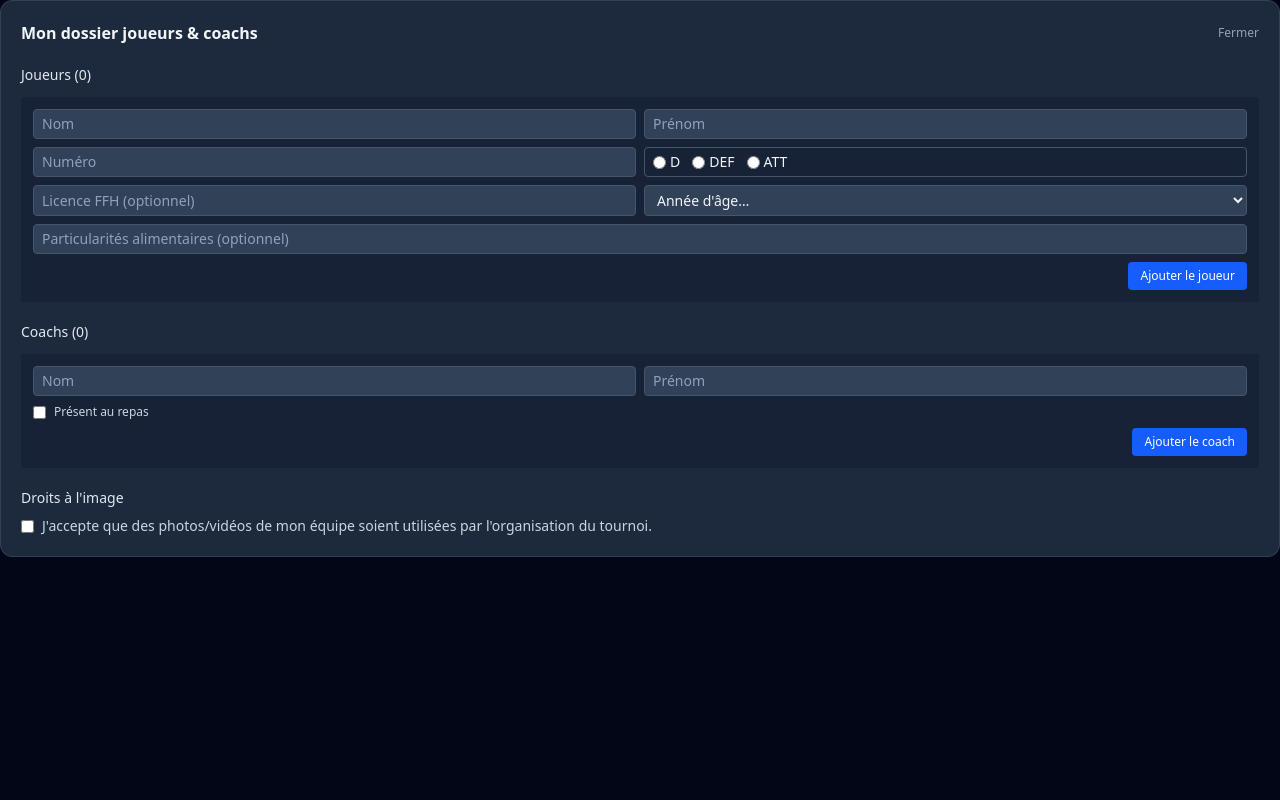
Test case: DossierPanel › rejects joueur submission when nom/prénom/numéro/poste are filled but no année d'âge is selected (CA3)
This screenshot has width=1280, height=800.
Expected: the heading "Joueurs (0)" is shown, [21,65,91,84]
Type "Gretzky" into the field with placeholder "Nom" below "Joueurs (0)".
click(334, 124); type("Gretzky")  # box [33,109,636,139]
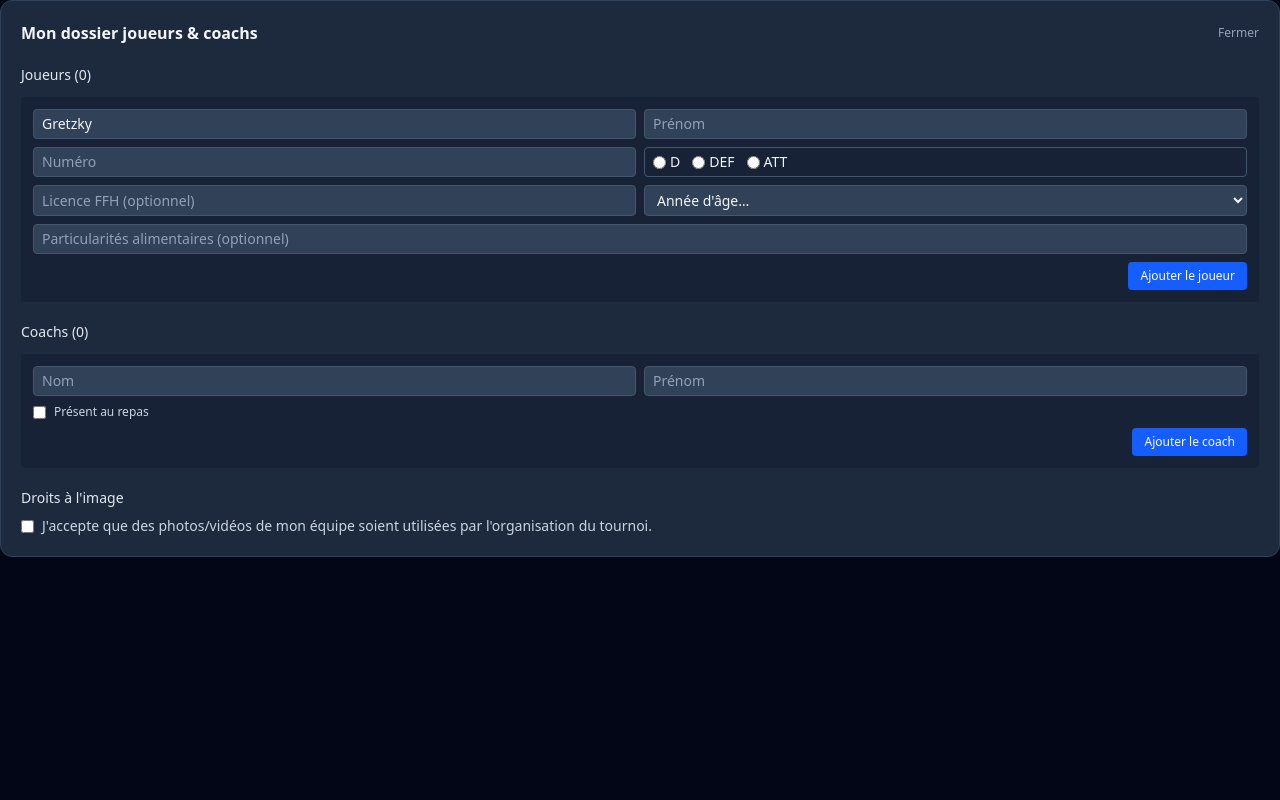
Type "Wayne" into the 1st field with placeholder "Prénom".
click(946, 124); type("Wayne")  # box [644,109,1247,139]
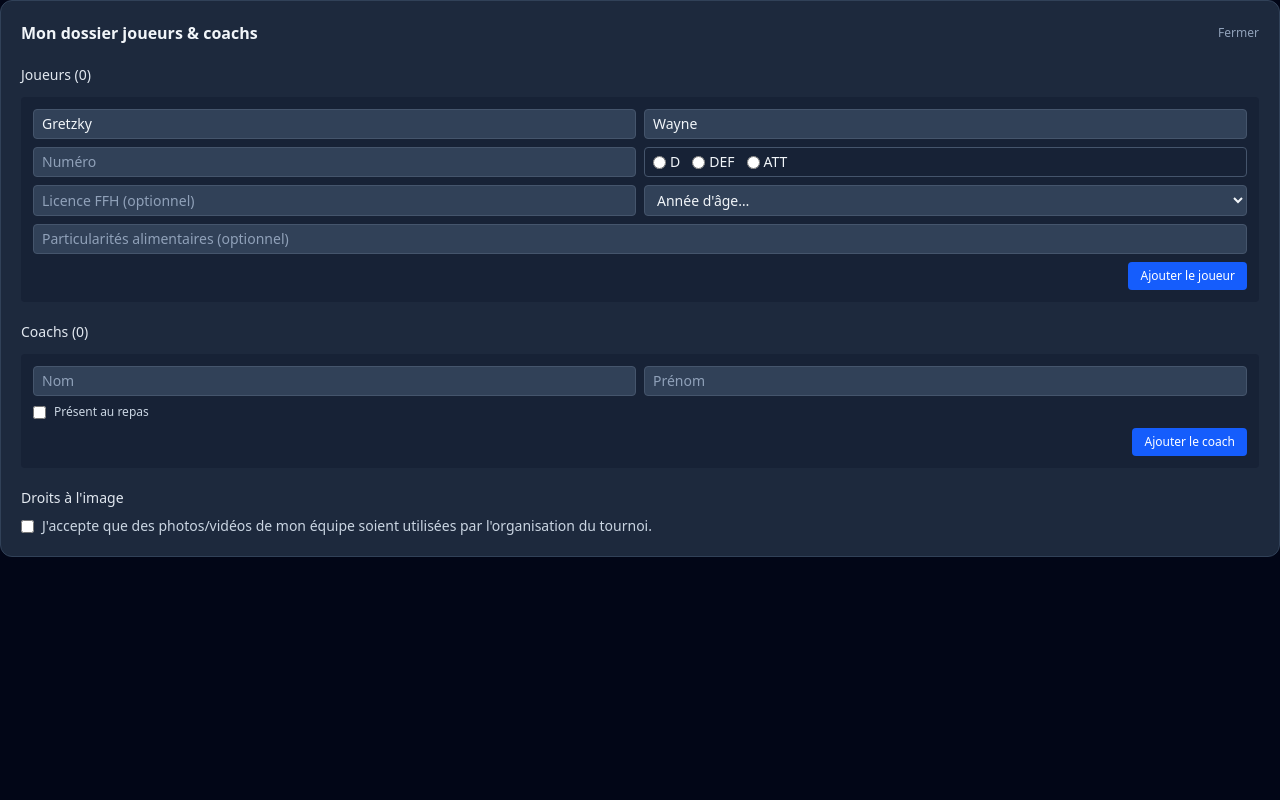
Type "99" into the number field with placeholder "Numéro".
click(334, 162); type("99")  # box [33,147,636,177]
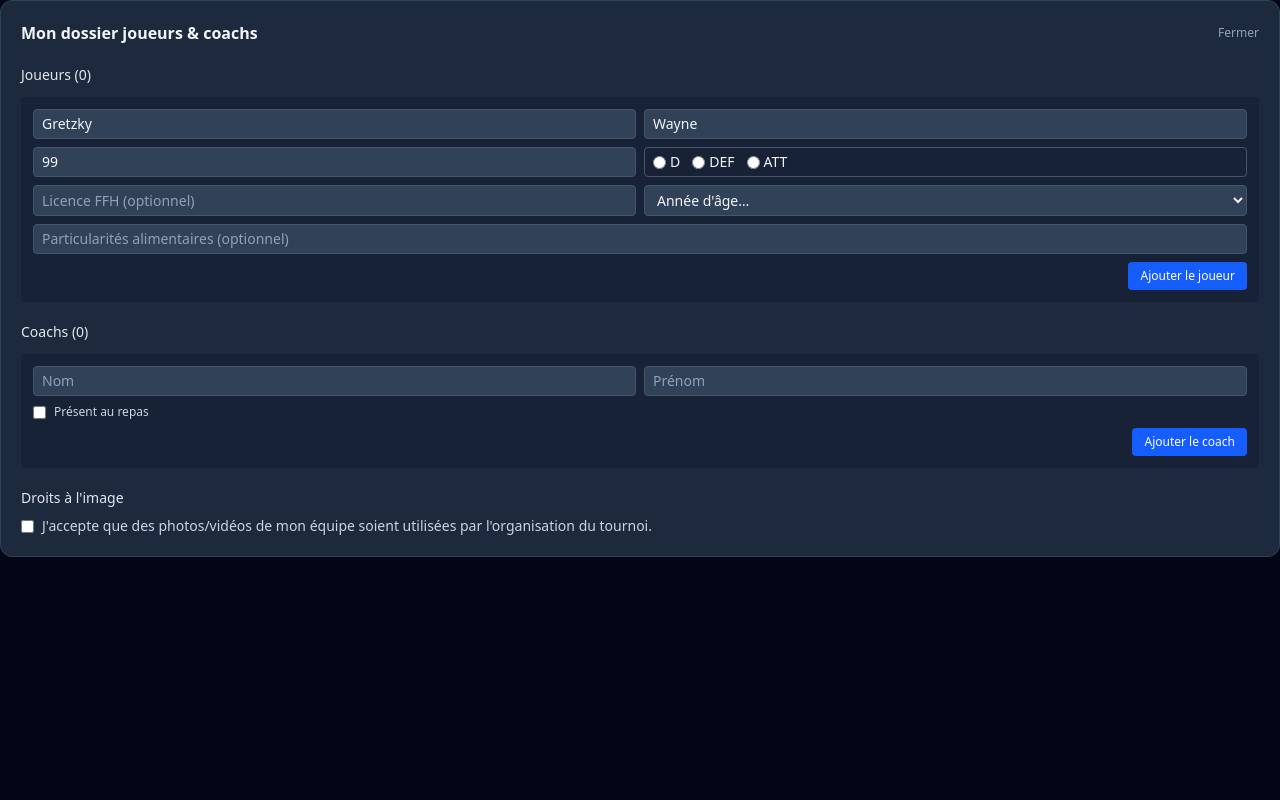
Click the radio button labelled "D".
click(660, 162)  # box [653,156,666,168]
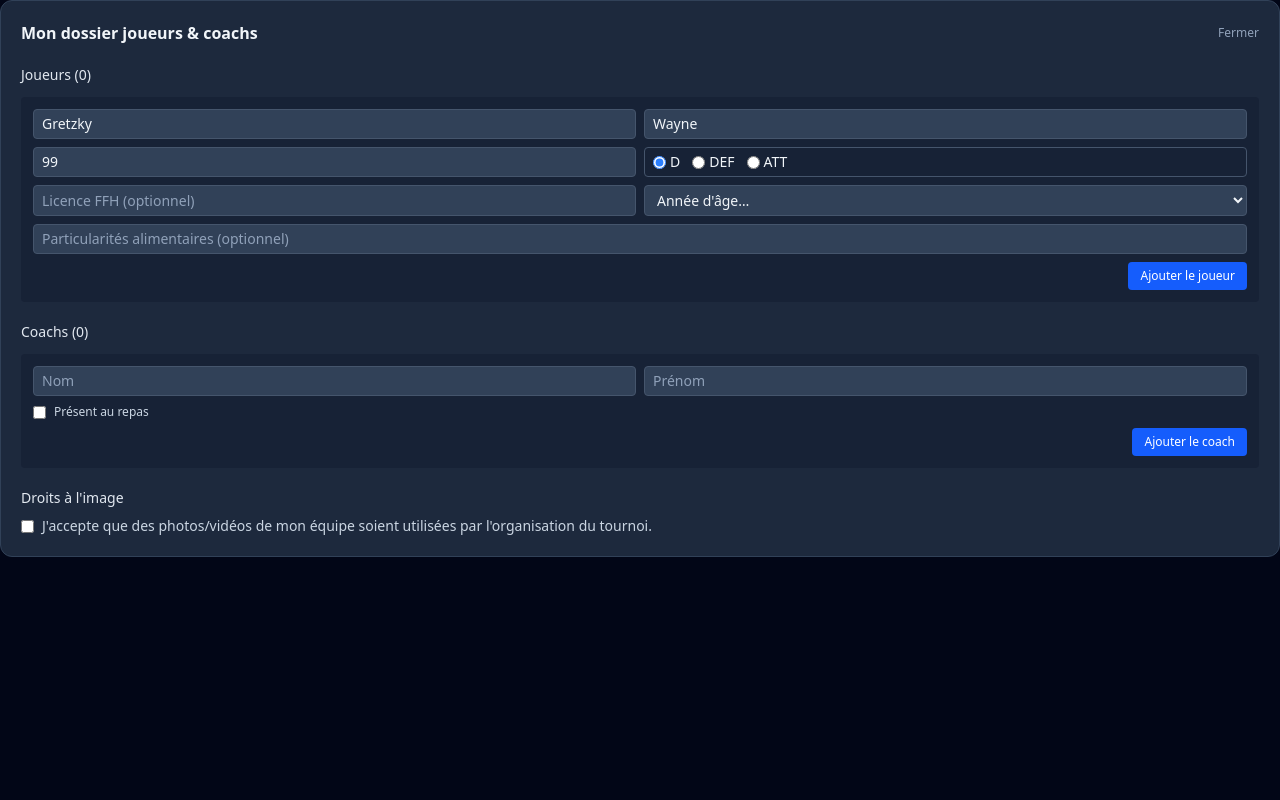
Click the button "Ajouter le joueur".
click(1188, 276)  # box [1128,262,1247,290]
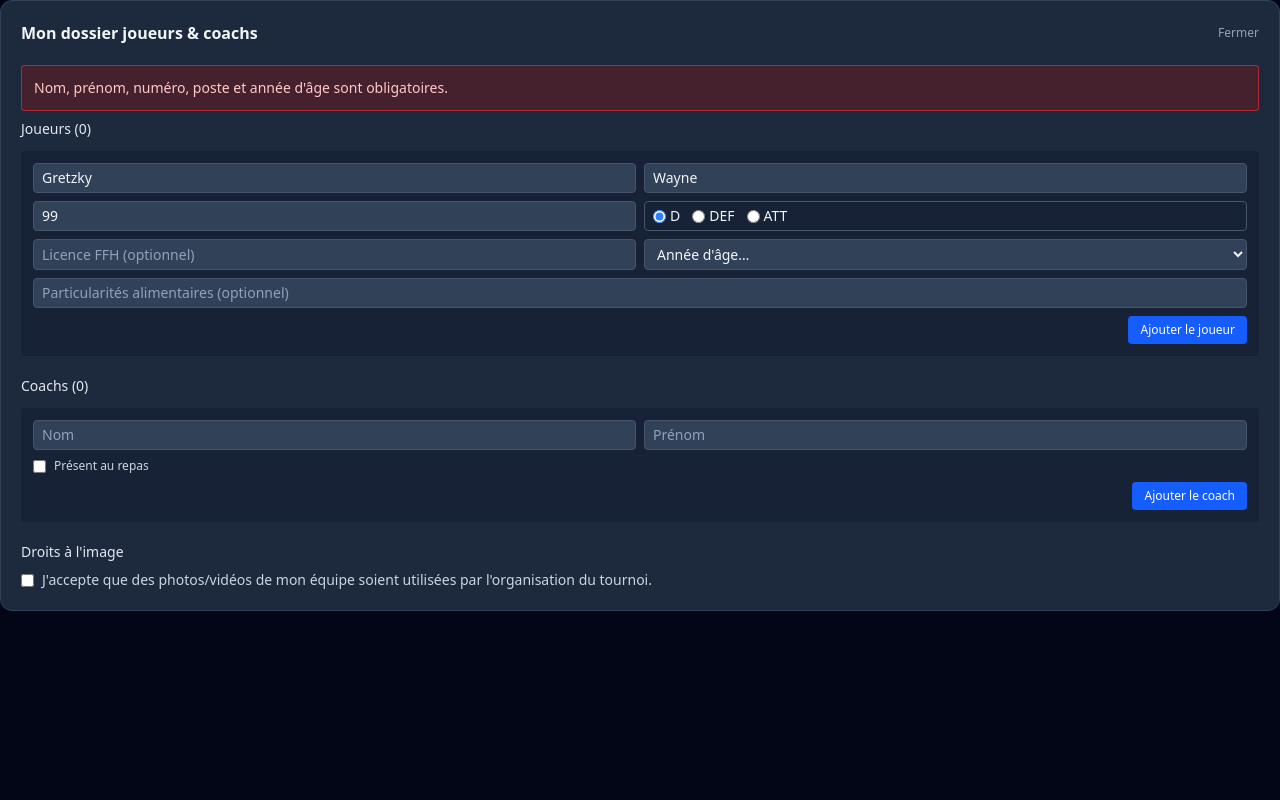
Expected: the text "Nom, prénom, numéro, poste et année d'âge sont obligatoires." is shown, [21,65,1259,111]
